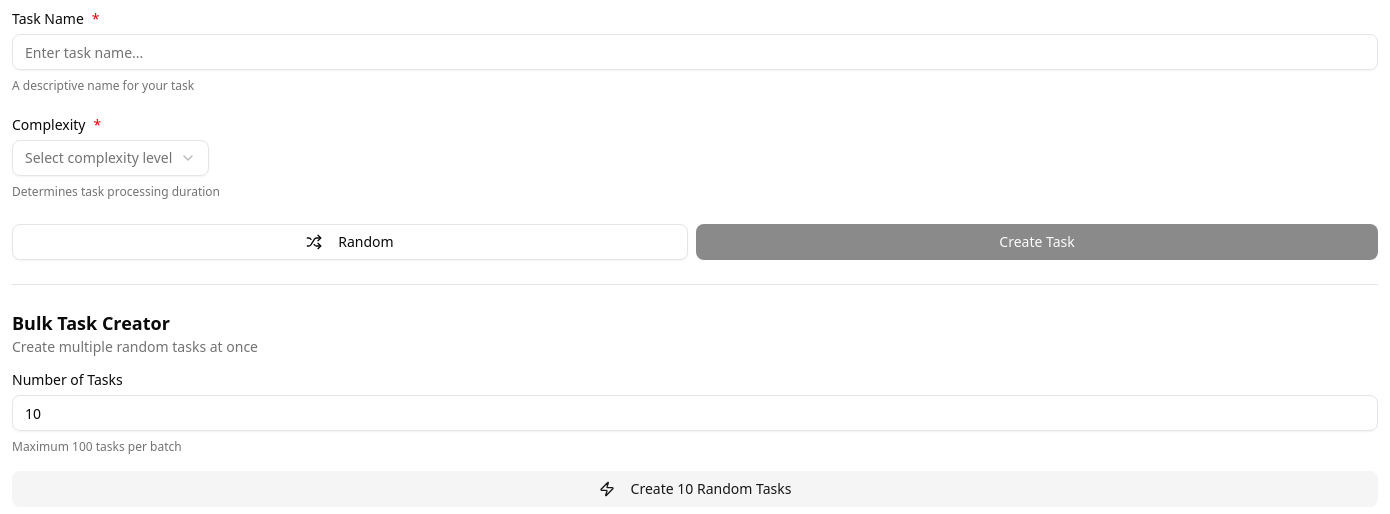
TaskSubmissionForm › should populate form when random button is clicked
Expected: the field labelled "Task Name *" is empty, [12,34,1378,70]
Note: Click random button
Click the button "Random" at (350, 242), box [12,224,688,260]
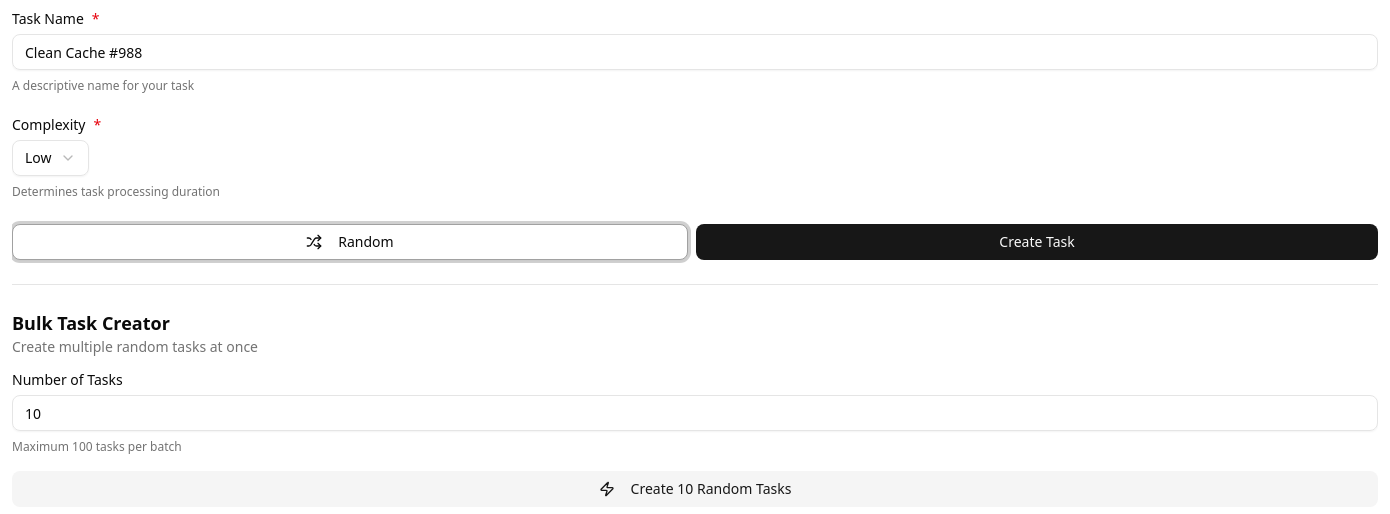
Expected: the field labelled "Task Name *" is not empty, [12,34,1378,70]
